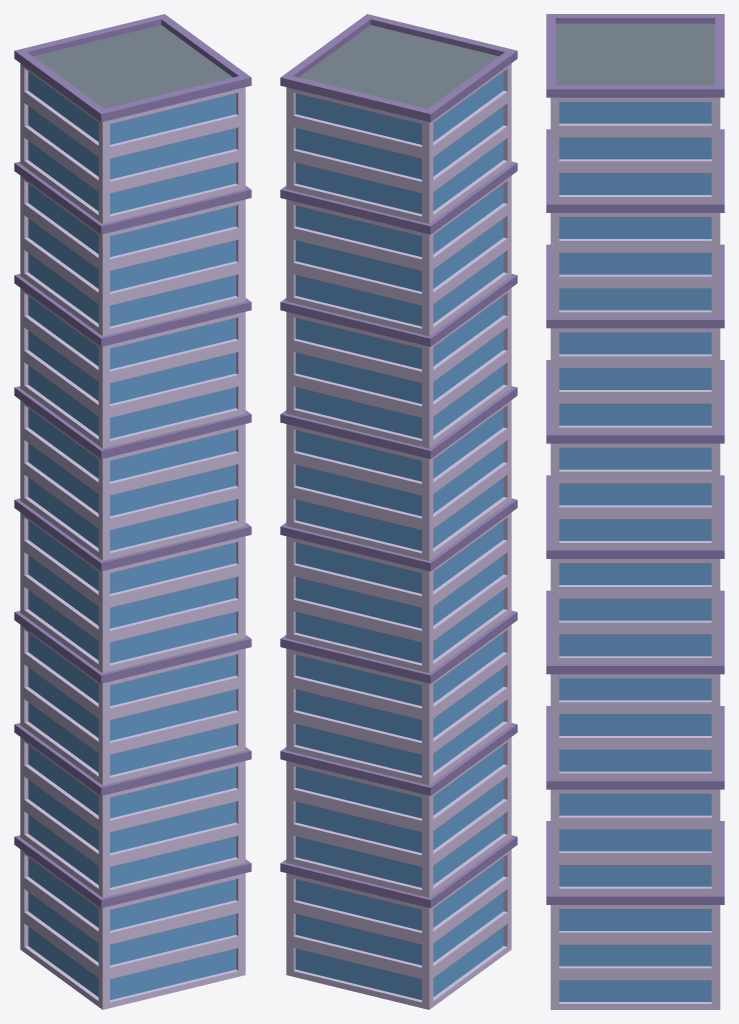
File: Skyscraper03.fbx
3 views of the same model, side by side, from view 1: azimuth 30°, elevation 25°; view 2: azimuth 150°, elevation 25°; view 3: azimuth 270°, elevation 25° (orthographic). The views are drawn at different scales.
Parts seen in each view (by area): view 1: Skyscraper03; view 2: Skyscraper03; view 3: Skyscraper03.
Boxes of the visible parts, x1,y1,x2,y2 form: Skyscraper03: (14,14,251,1009); Skyscraper03: (280,14,517,1009); Skyscraper03: (546,14,724,1009).
Bounding box in the file's own units: 420 × 2400 × 420.
